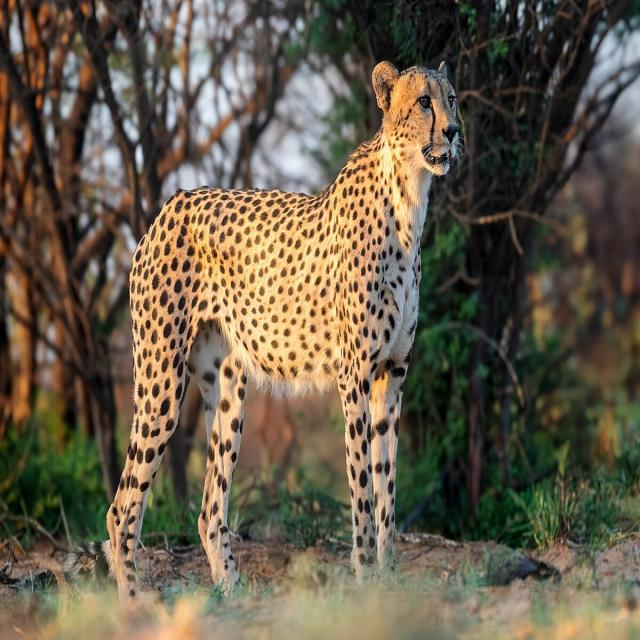Cheetah: (100, 48, 470, 607)
